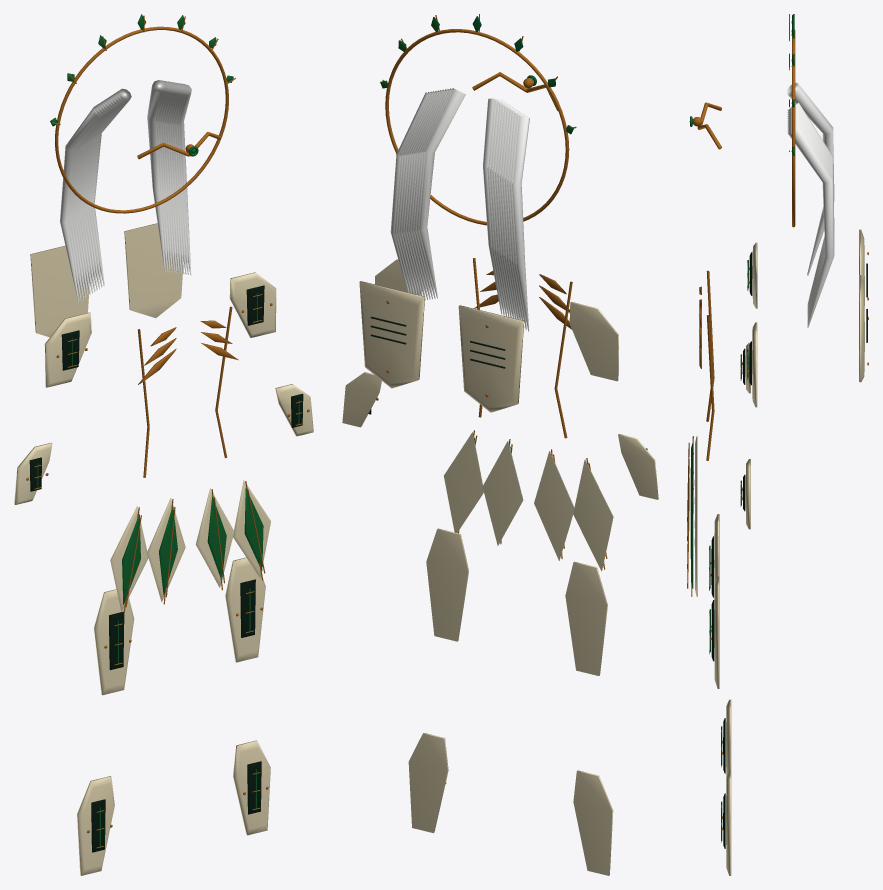
File: Tahla-new-parts.obj
The picture shows the model from 3 angles, left to right: view 1: azimuth 30°, elevation 25°; view 2: azimuth 150°, elevation 25°; view 3: azimuth 270°, elevation 25°; orthographic projection. The views are drawn at different scales.
Bounding box in the file's own units: 0.6676 × 1.74 × 0.3553.
